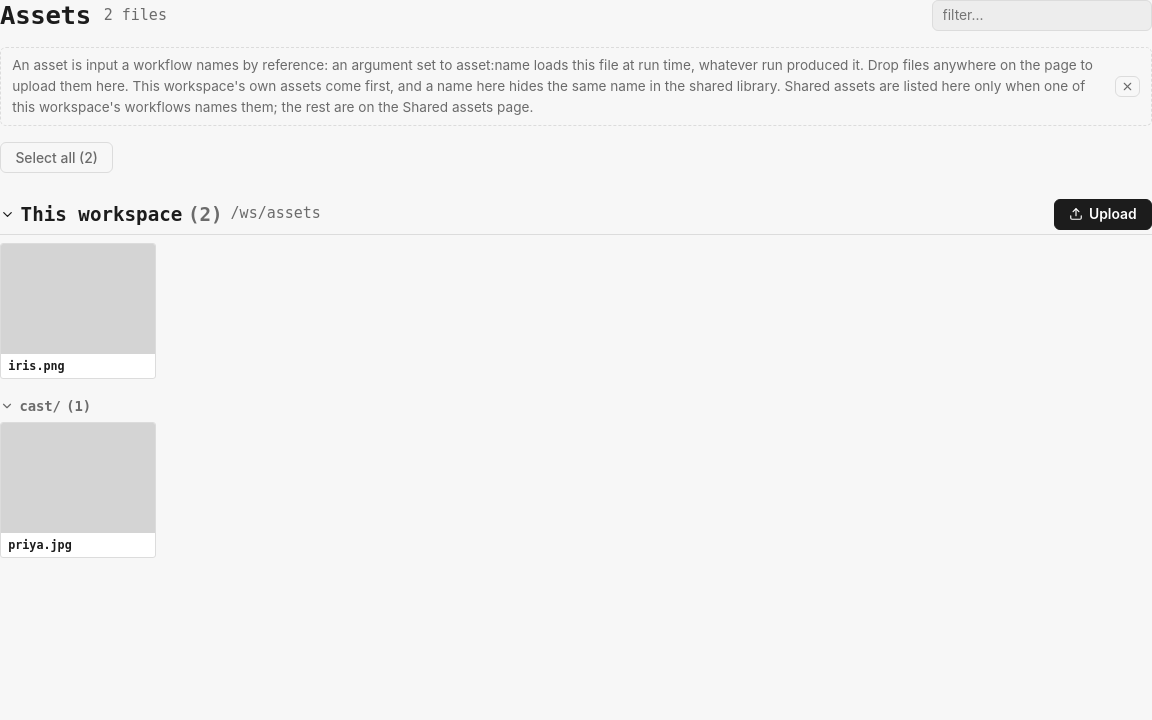
Scenario: keeps an asset that would not delete in the selection
Check: the text "iris.png" is shown, box [8, 359, 65, 373]
Click the checkbox named "select iris.png". click: (78, 311)
box: [0, 243, 156, 379]
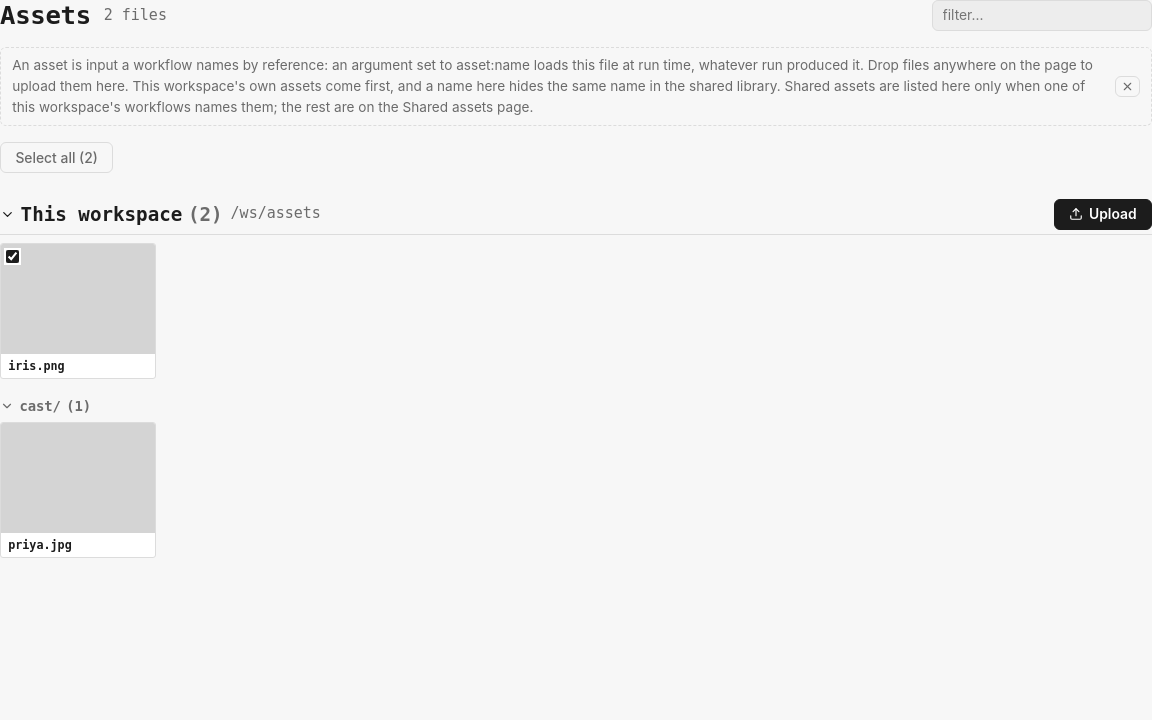
Click the checkbox named "select cast/priya.jpg". click: (78, 490)
box: [0, 422, 156, 558]
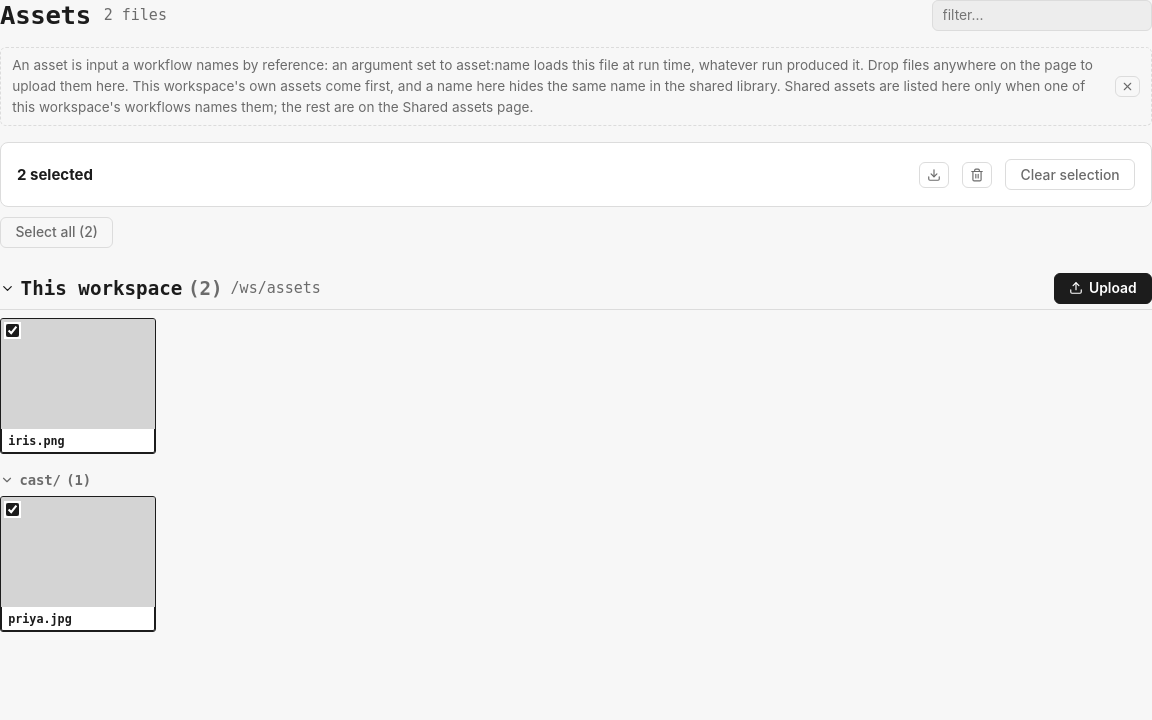
Check: the button named "delete the selected" is shown
Click the button named "delete the selected". click: (977, 175)
box: [962, 162, 992, 188]
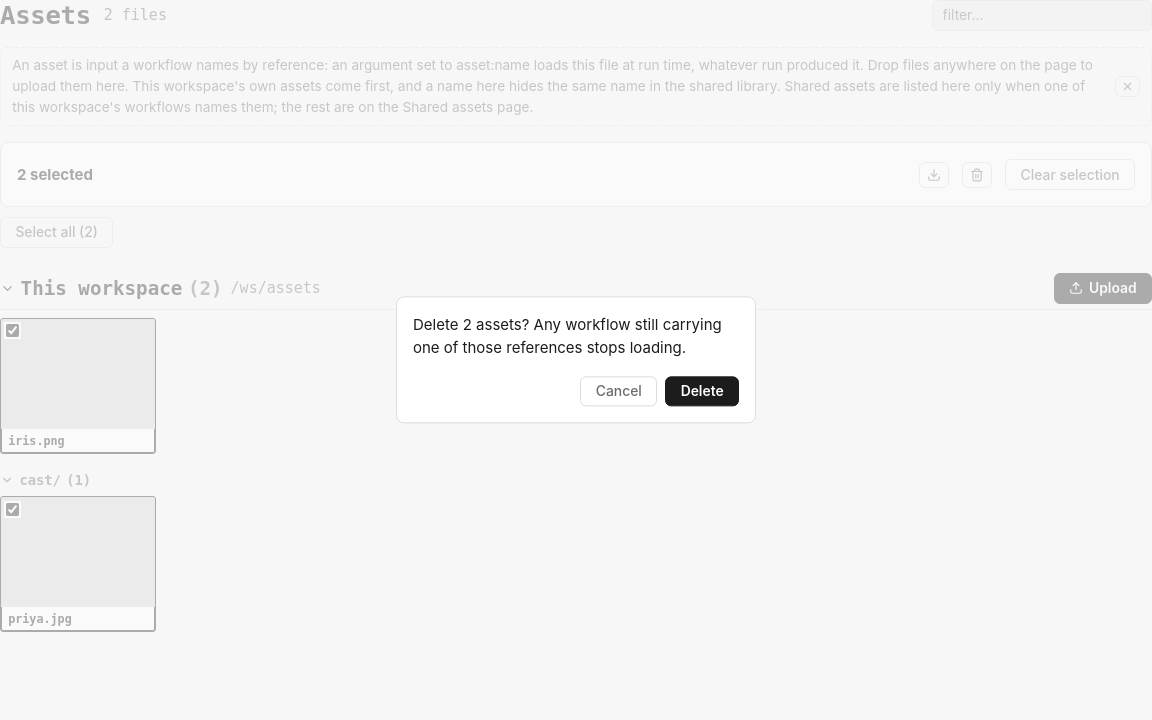
Click the button "Delete". click: (702, 391)
box: [665, 376, 739, 407]
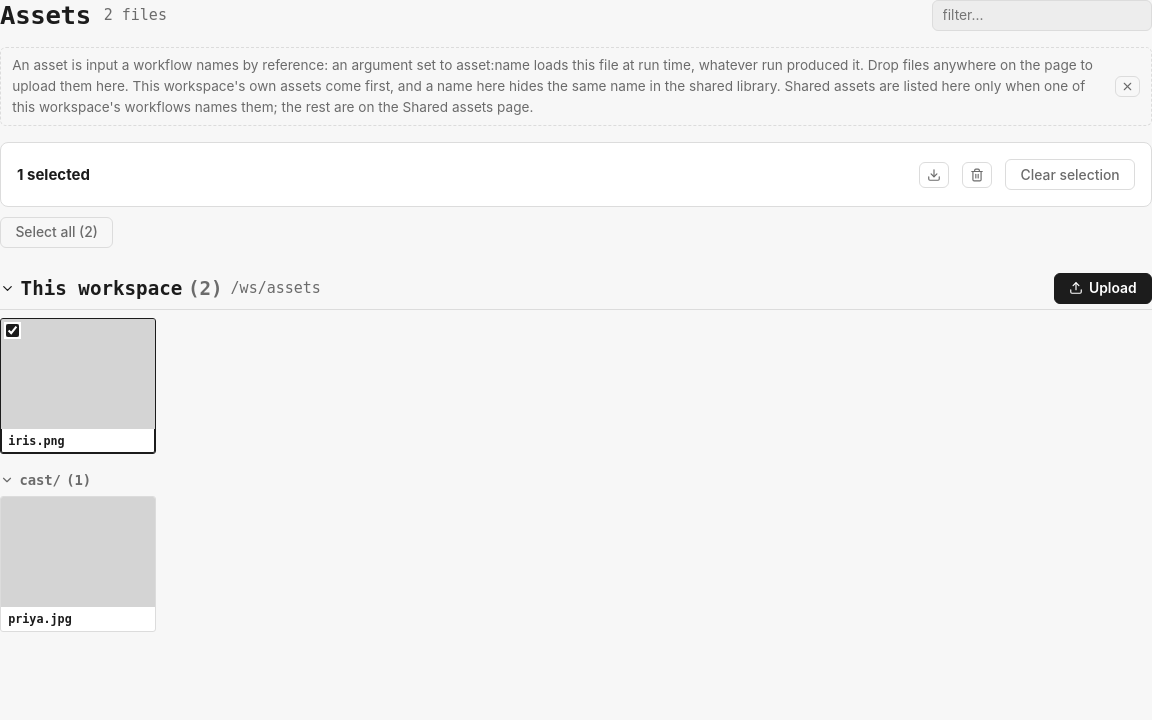
Check: the checkbox named "select iris.png" is checked, box [6, 324, 19, 337]
Check: the text "1 selected" is shown, box [17, 163, 90, 186]
